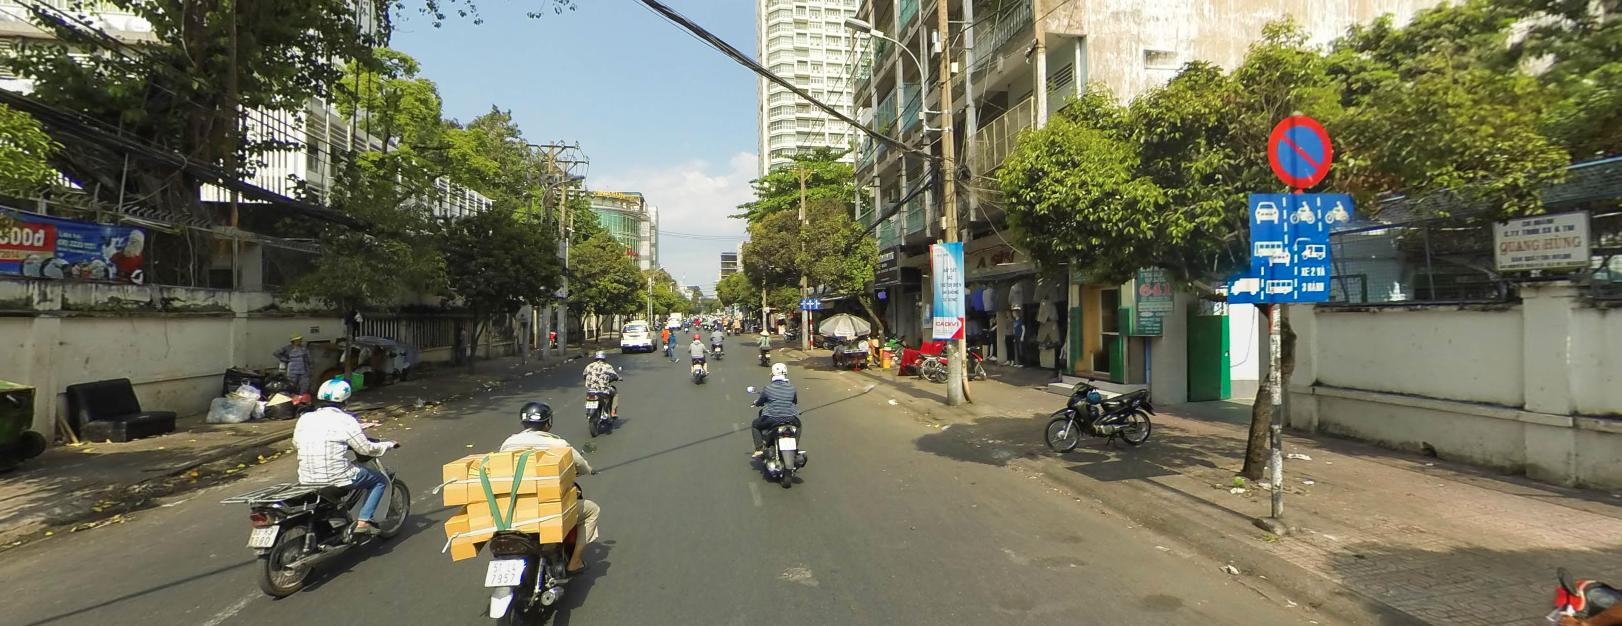Cam dung va do: (1265, 110, 1335, 189), (1266, 115, 1333, 188)
